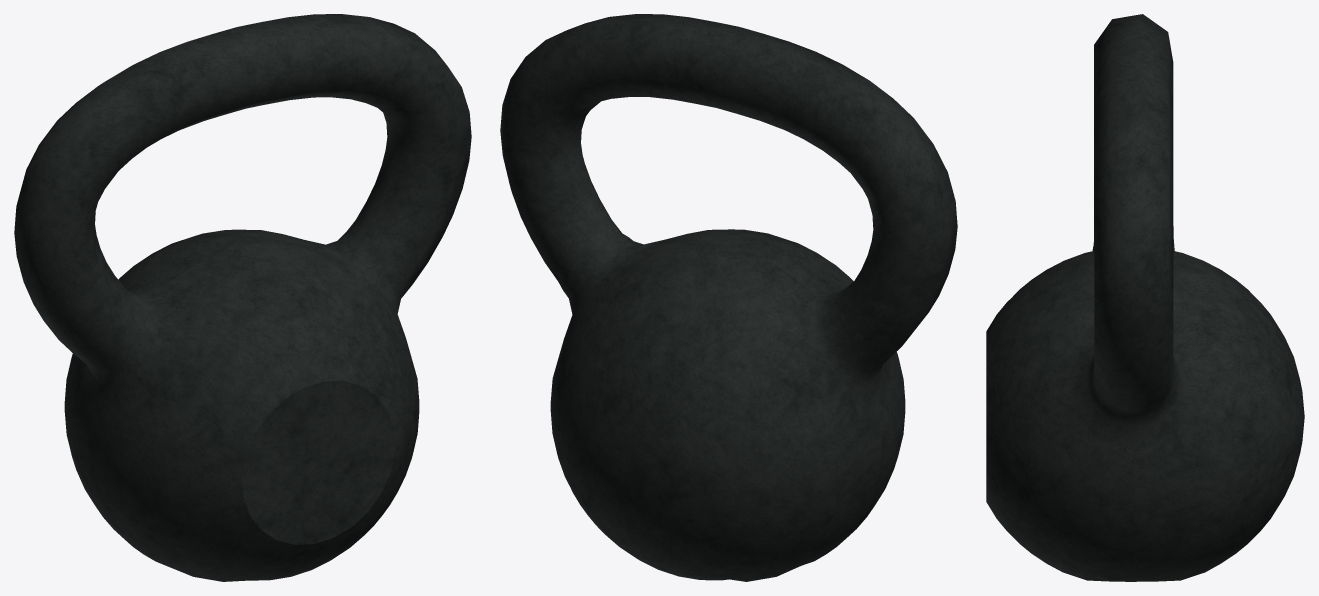
The model's file is kettlebell.glb.
3 renders of one model, left to right at view 1: azimuth 30°, elevation 25°; view 2: azimuth 150°, elevation 25°; view 3: azimuth 270°, elevation 25°, orthographic. The views are drawn at different scales.
Parts seen in each view (by area): view 1: Kettlebell; view 2: Kettlebell; view 3: Kettlebell.
Part boxes in pixels (x1,y1,x2,y2): Kettlebell: (14, 14, 471, 581); Kettlebell: (500, 14, 957, 581); Kettlebell: (986, 14, 1304, 581).
Size of the model in its own units: 0.2145 by 0.2349 by 0.1378.
1 material, 1 textured.
